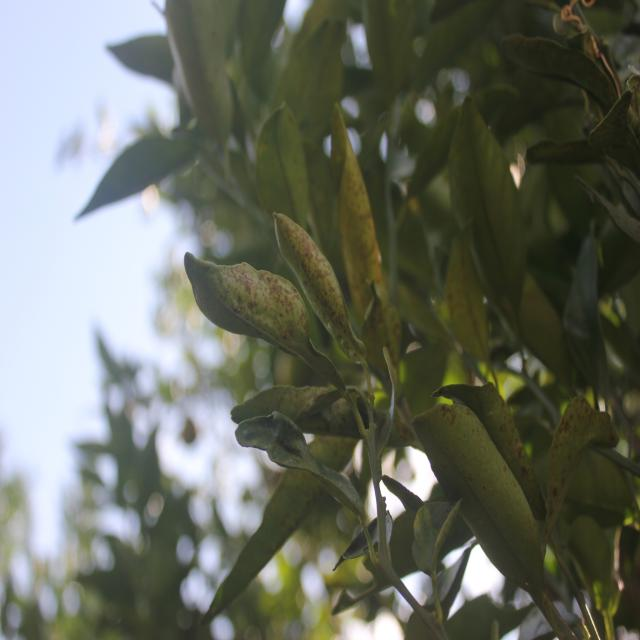melanose: (180, 251, 312, 367), (438, 373, 536, 524), (537, 396, 626, 520), (275, 218, 358, 350), (332, 128, 387, 326)
